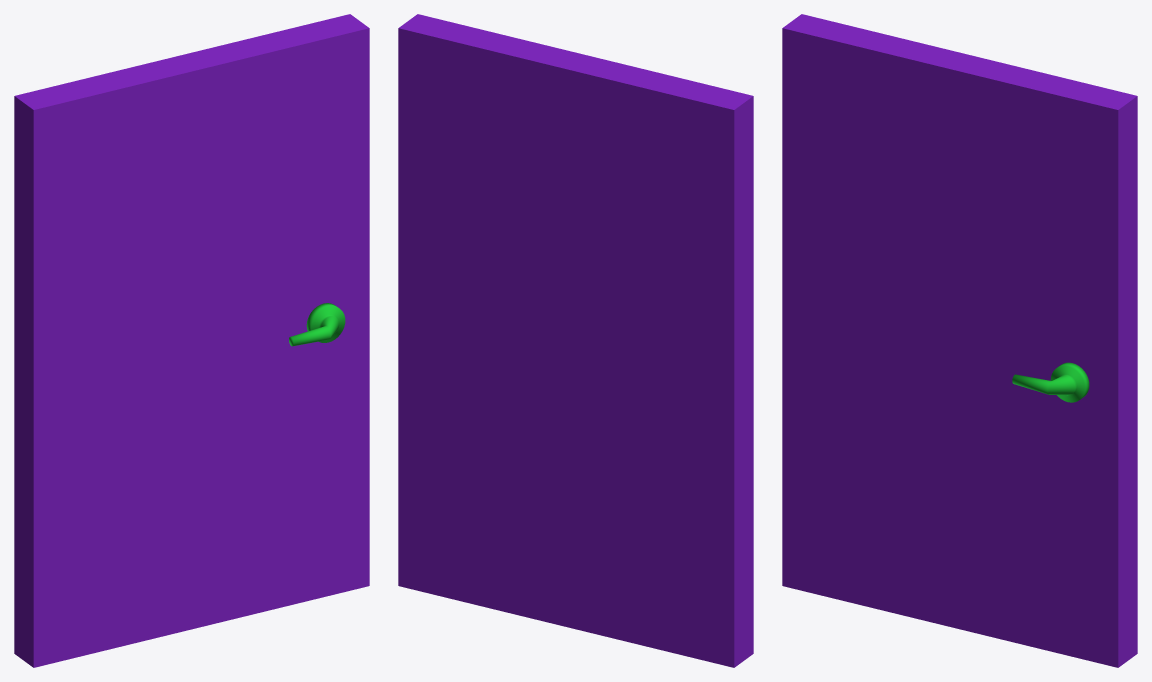
File: Unity HD Render Pipeline (Metallic Standard).fbx
The picture shows the model from 3 angles, left to right: view 1: azimuth 30°, elevation 25°; view 2: azimuth 150°, elevation 25°; view 3: azimuth 330°, elevation 25°; orthographic projection.
Parts seen in each view (by area): view 1: Door (×2); view 2: Door; view 3: Door (×2).
Part boxes in pixels (bbox=[...]): Door (×2): bbox=[14, 14, 369, 667]; Door: bbox=[398, 14, 753, 667]; Door (×2): bbox=[782, 14, 1137, 667].
Bounding box in the file's own units: 1 × 1.59 × 0.1836.
